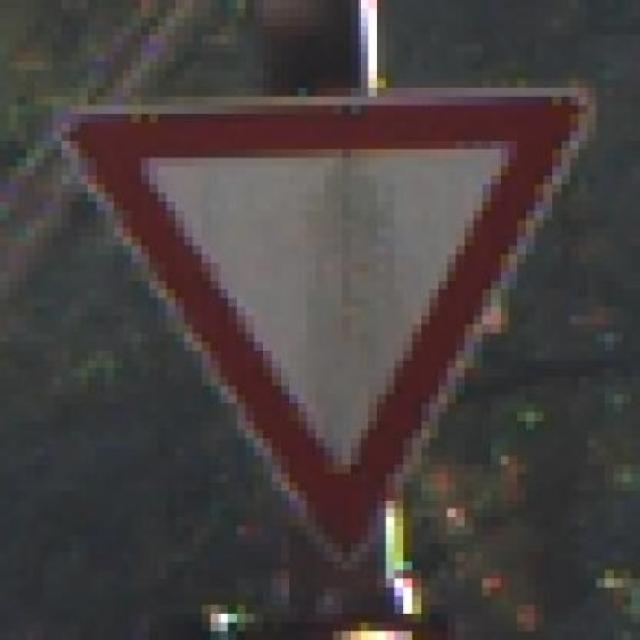Give Way: (35, 79, 596, 570)
